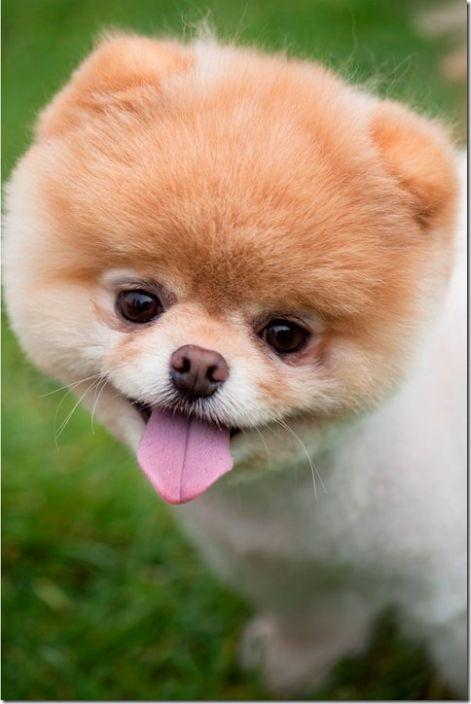dog: (13, 13, 467, 513)
